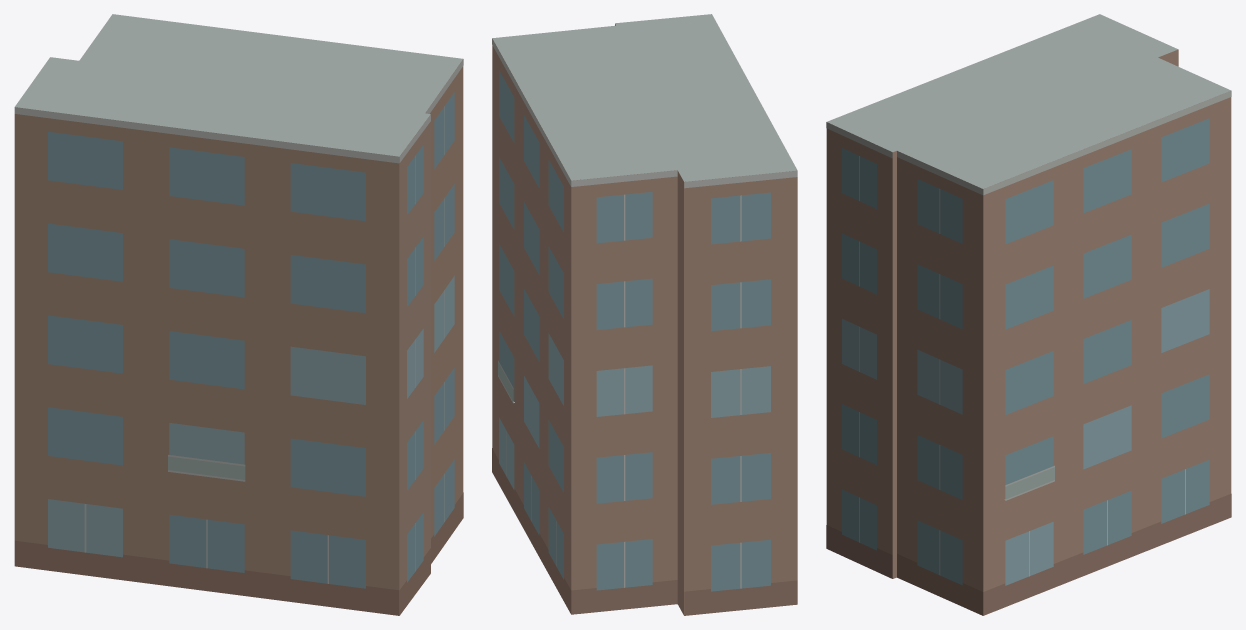
Rendered from survey-upis-32757014.glb.
3 renders of one model, left to right at view 1: azimuth 30°, elevation 25°; view 2: azimuth 150°, elevation 25°; view 3: azimuth 270°, elevation 25°, orthographic. The views are drawn at different scales.
Parts seen in each view (by area): view 1: survey-upis-32757014.tmp; view 2: survey-upis-32757014.tmp; view 3: survey-upis-32757014.tmp.
Boxes of the visible parts, x1,y1,x2,y2 form: survey-upis-32757014.tmp: [14, 14, 463, 615]; survey-upis-32757014.tmp: [492, 14, 797, 615]; survey-upis-32757014.tmp: [826, 14, 1231, 615].
Bounding box in the file's own units: 14.57 × 16.55 × 14.24.
